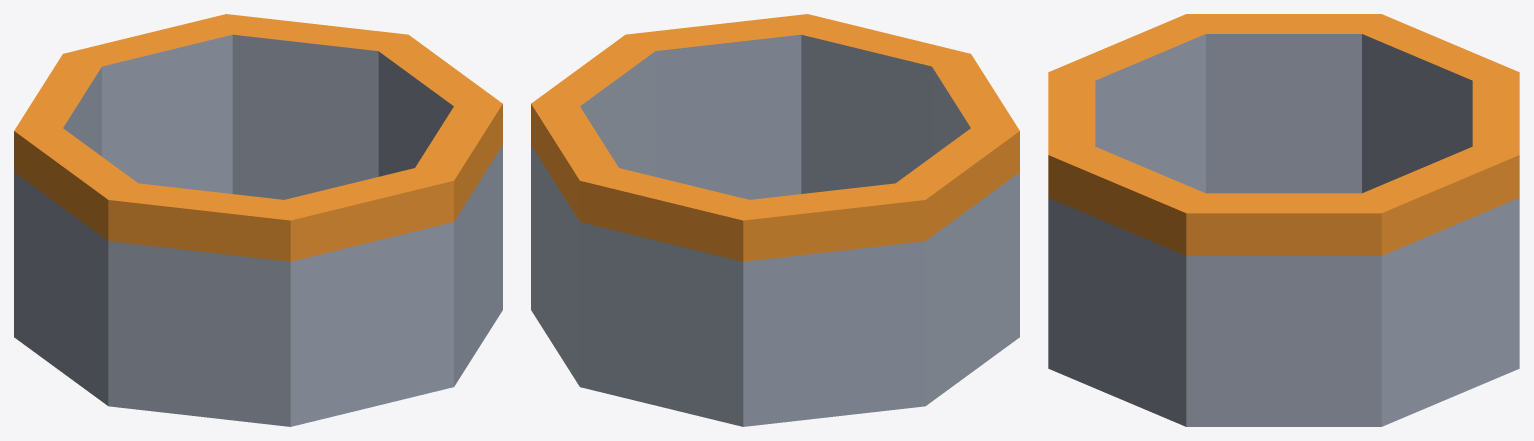
Rendered from cohete_tanque.obj.
3 views of the same model, side by side, from view 1: azimuth 30°, elevation 25°; view 2: azimuth 150°, elevation 25°; view 3: azimuth 270°, elevation 25° (orthographic). The views are drawn at different scales.
Visible parts, largest first — view 1: cohete_tanque; view 2: cohete_tanque; view 3: cohete_tanque.
Boxes of the visible parts, x1,y1,x2,y2 form: cohete_tanque: (14, 14, 502, 426); cohete_tanque: (531, 14, 1019, 426); cohete_tanque: (1048, 14, 1519, 426).
Size of the model in its own units: 1 by 0.5 by 1.
